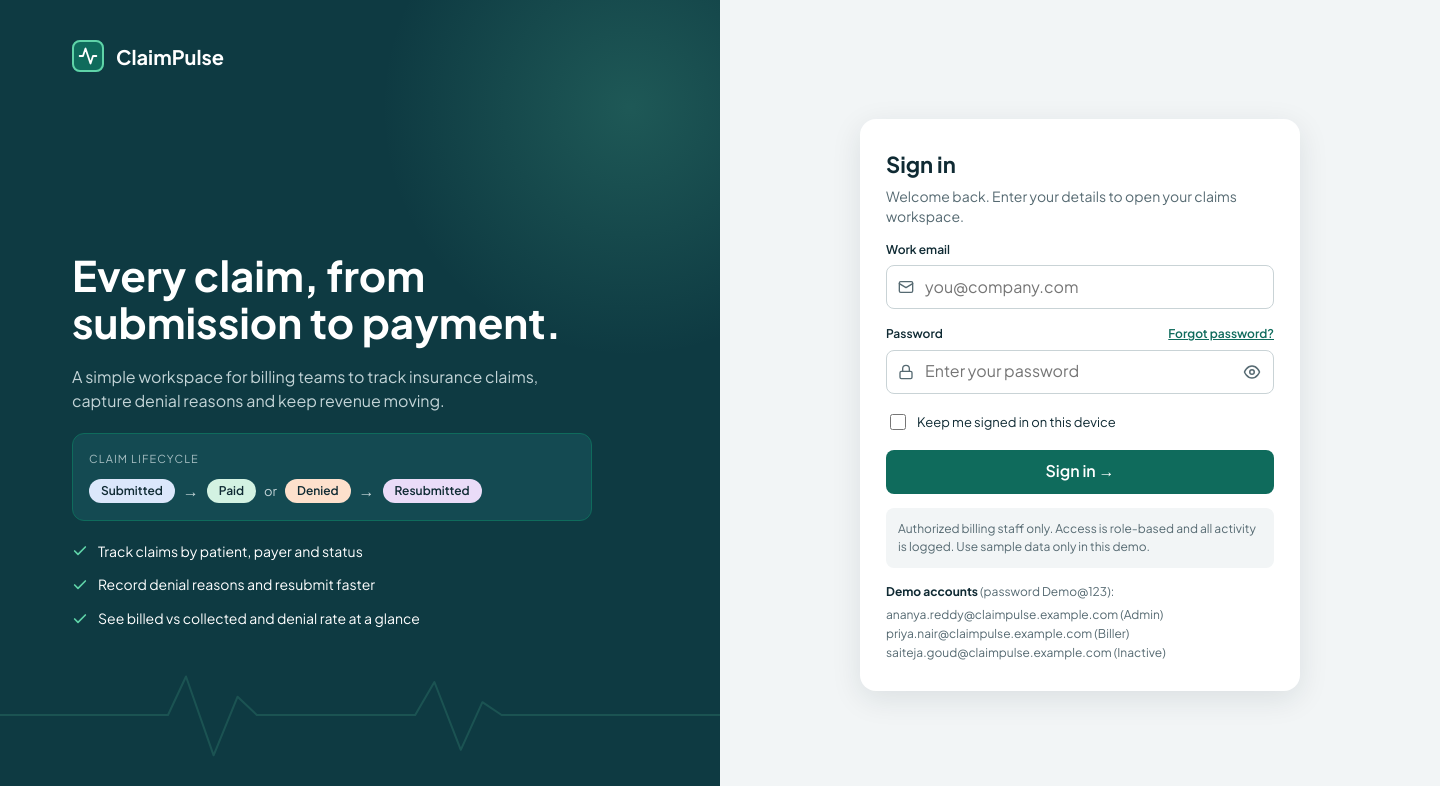
Test: Dashboard › navigates from the sidebar and marks the current page
Type "ananya.reddy@claimpulse.example.com" into the field labelled "Work email".
click(1080, 287); type("ananya.reddy@claimpulse.example.com")  # box top-left (886, 265), bottom-right (1274, 309)
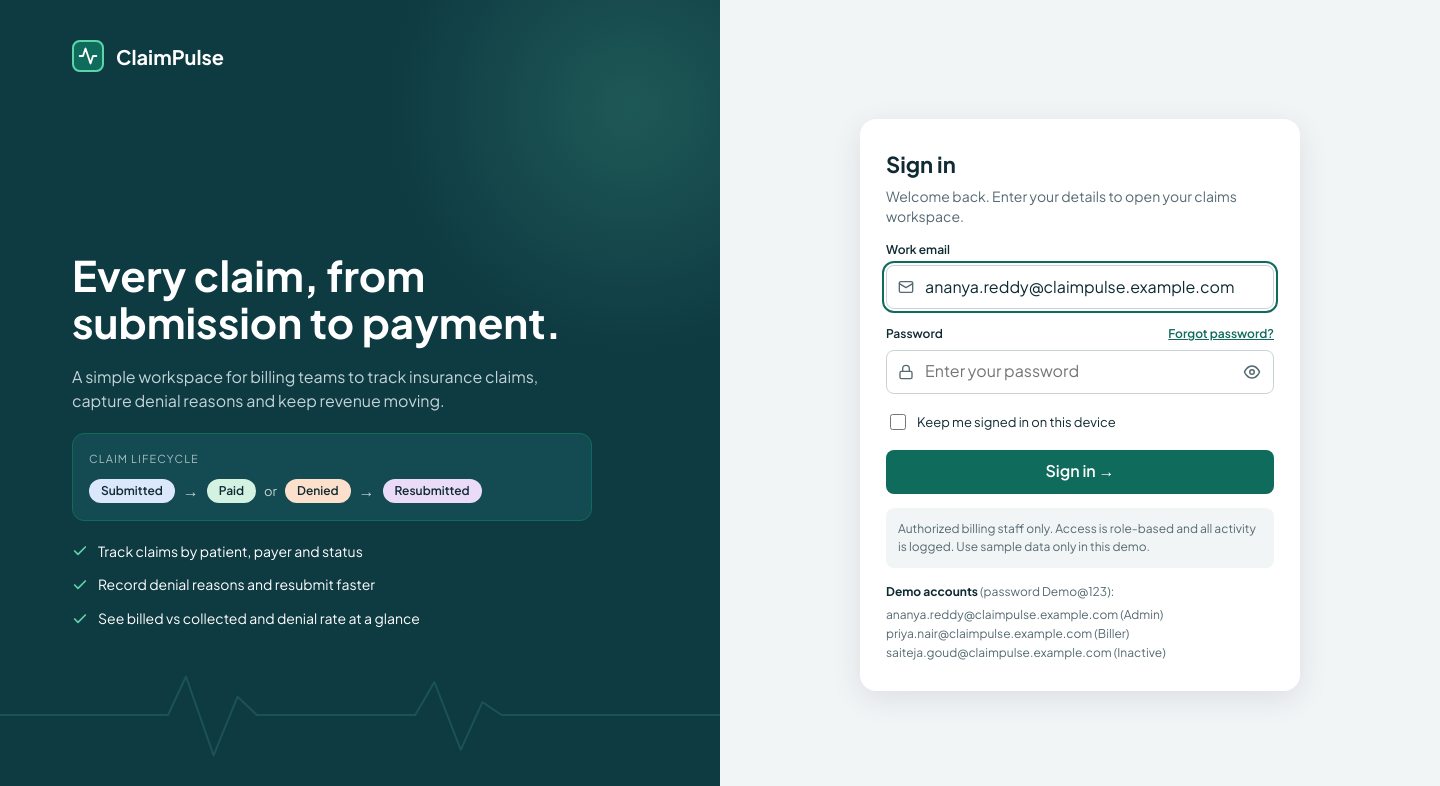
Type "Demo@123" into the password field labelled "Password".
click(1080, 372); type("Demo@123")  # box top-left (886, 350), bottom-right (1274, 394)
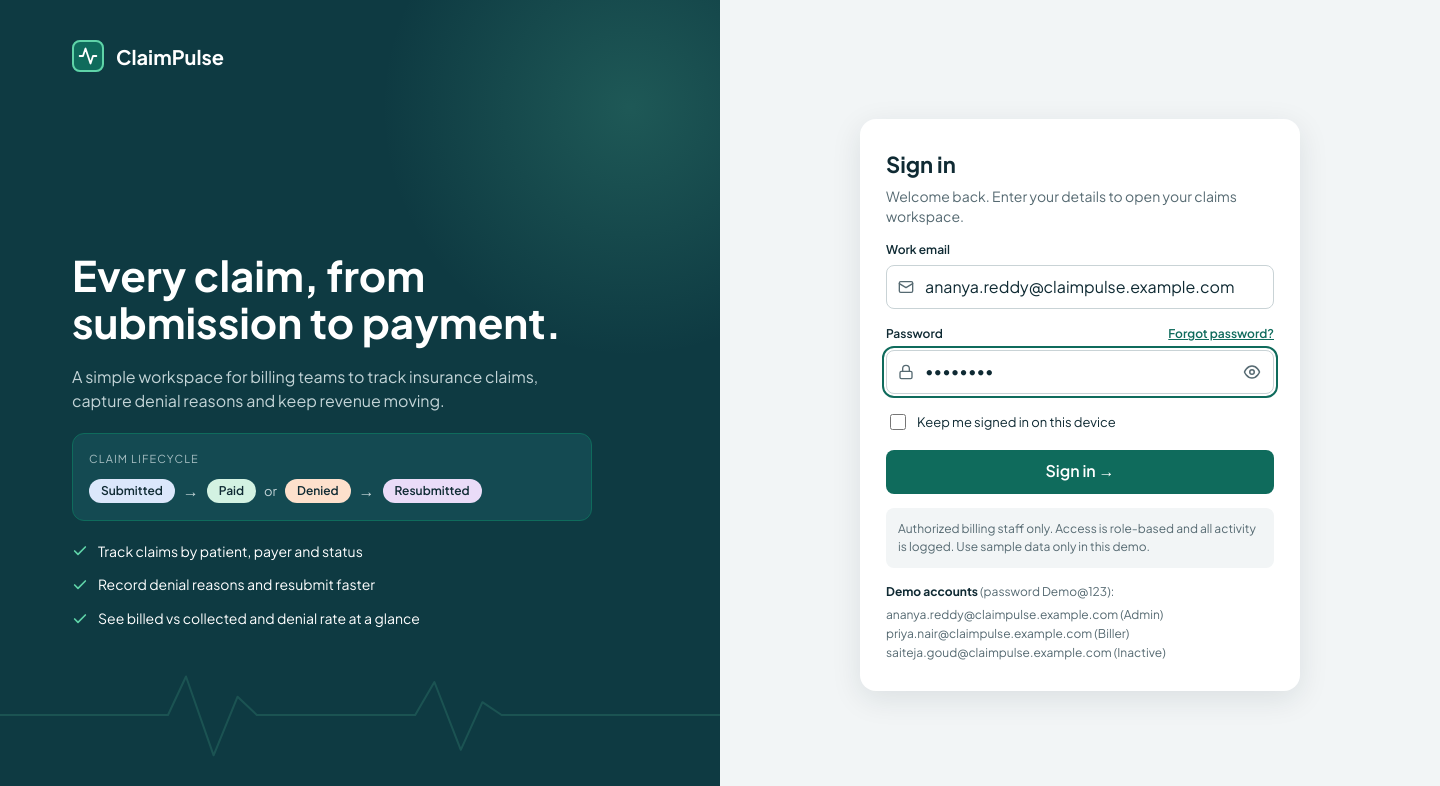
Click the button "Sign in →".
click(1080, 472)  # box top-left (886, 450), bottom-right (1274, 494)
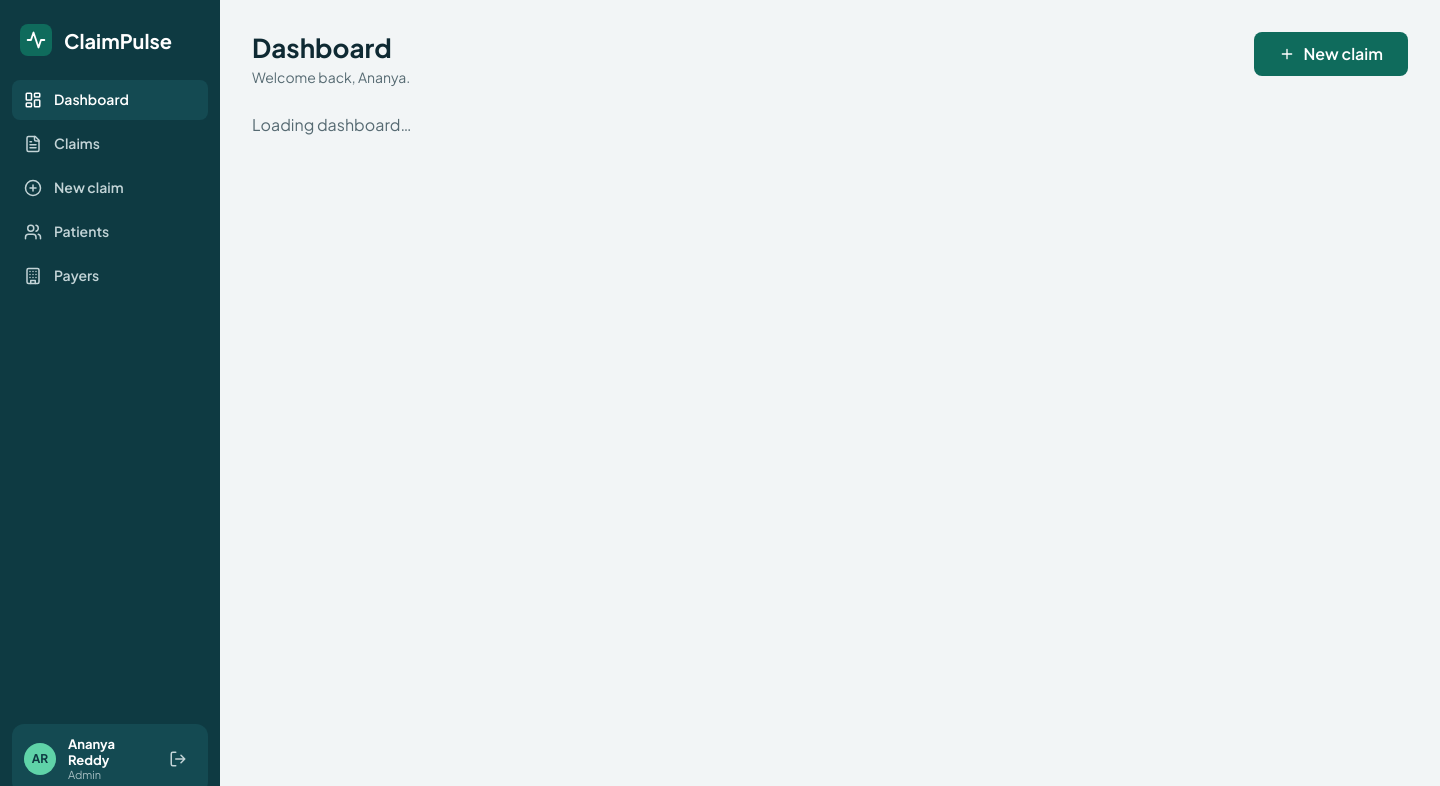
Expected: the heading "Dashboard" is shown, top-left (252, 32), bottom-right (410, 63)
Click the link "Patients".
click(67, 232)  # box top-left (24, 222), bottom-right (109, 241)
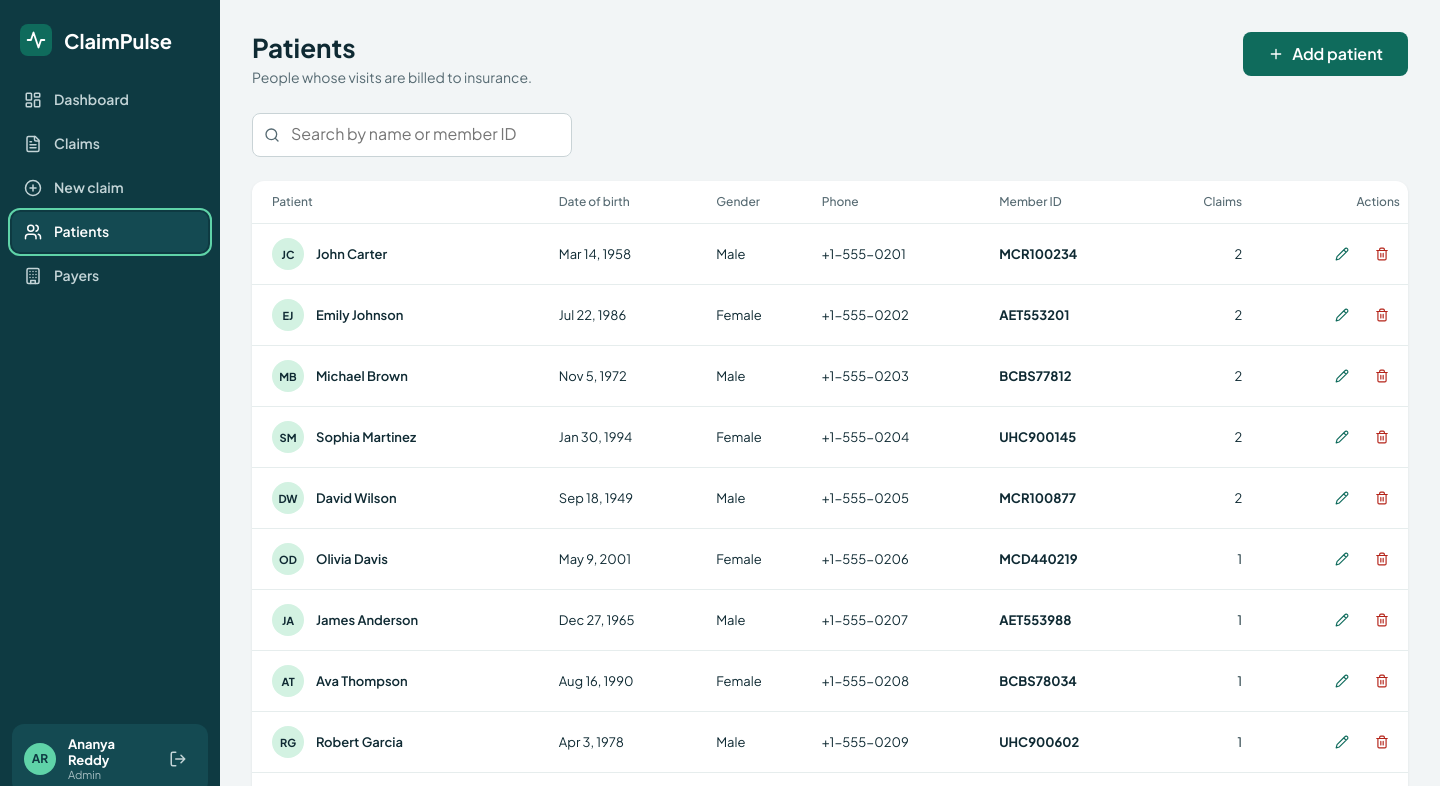
Expected: the heading "Patients" is shown, top-left (252, 31), bottom-right (356, 64)
